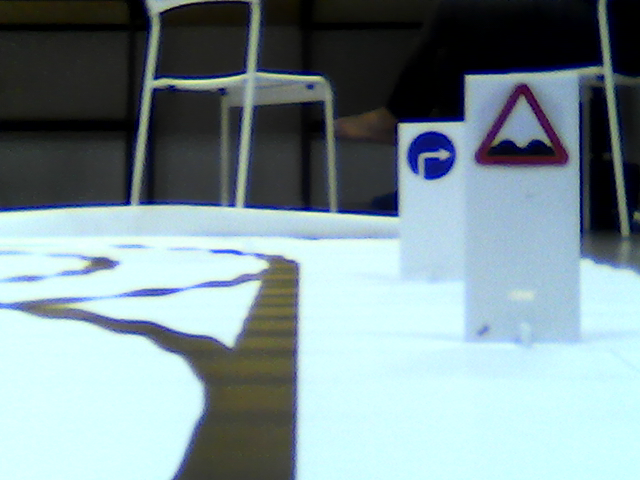Nerov: (474, 79, 571, 173)
Right: (407, 131, 455, 182)
